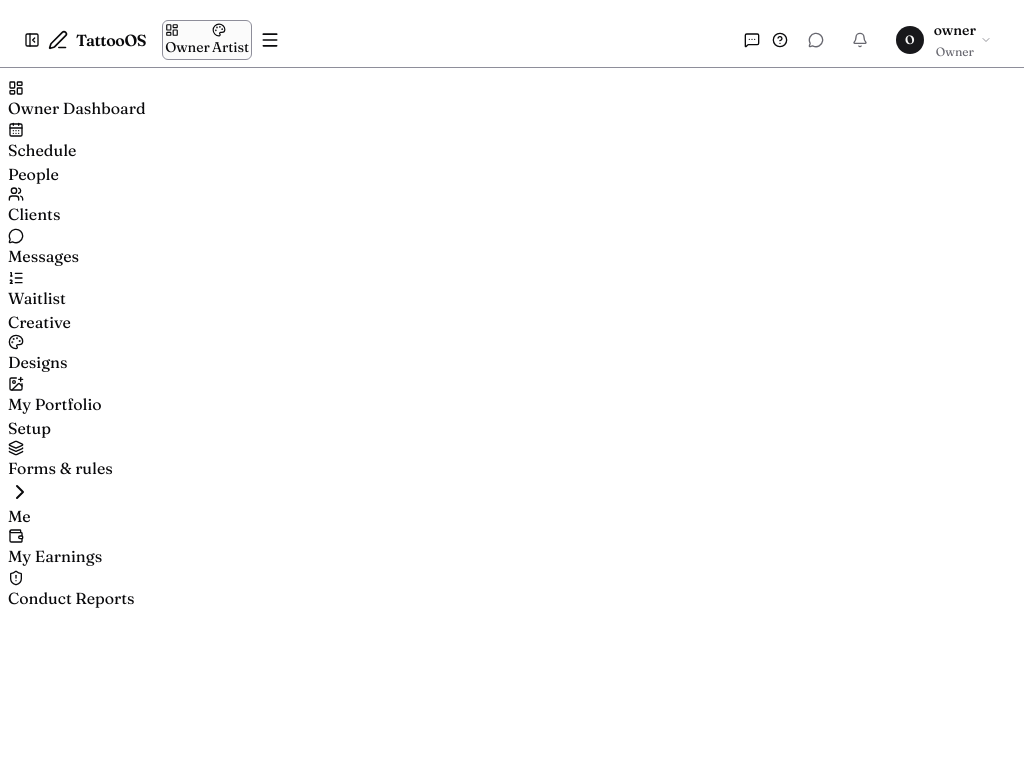
Test: OwnerLayout › artist mode (on the owner's own artist profile) shows only artist-relevant nav items
Click the button "Forms & rules".
click(60, 472)  # box x1=8 y1=440 x2=113 y2=504
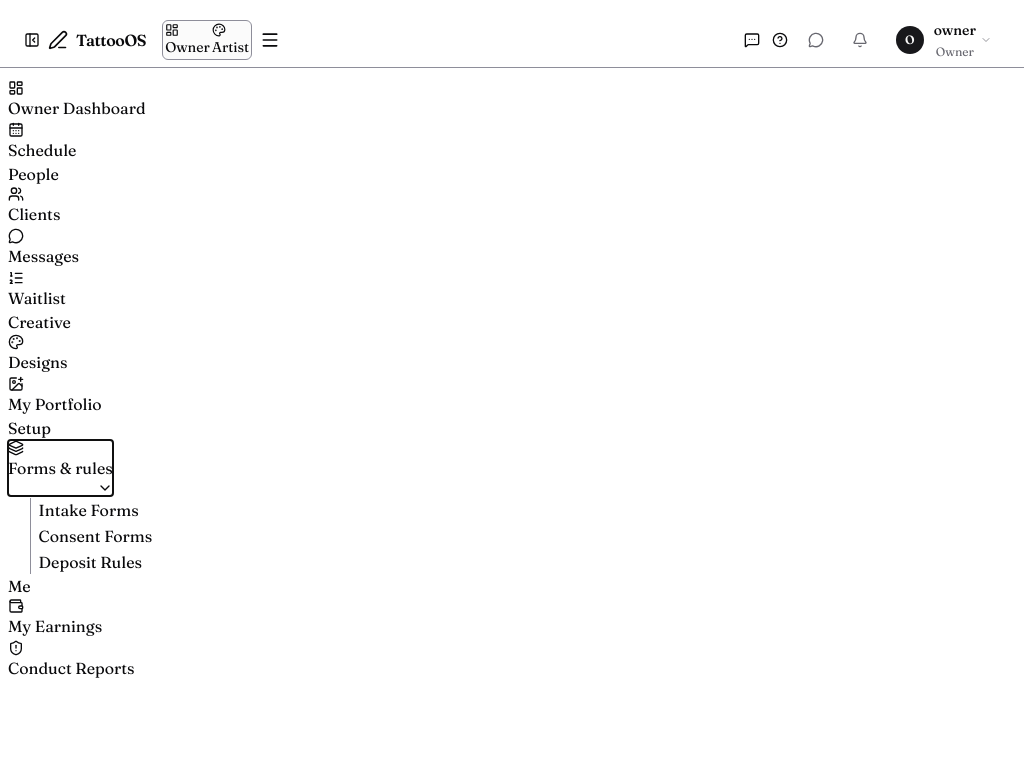
Check: the link "Conduct Reports" is shown, box x1=8 y1=640 x2=152 y2=680
Check: the link "Consent Forms" is shown, box x1=39 y1=524 x2=152 y2=548
Check: the link "Intake Forms" is shown, box x1=39 y1=498 x2=152 y2=522
